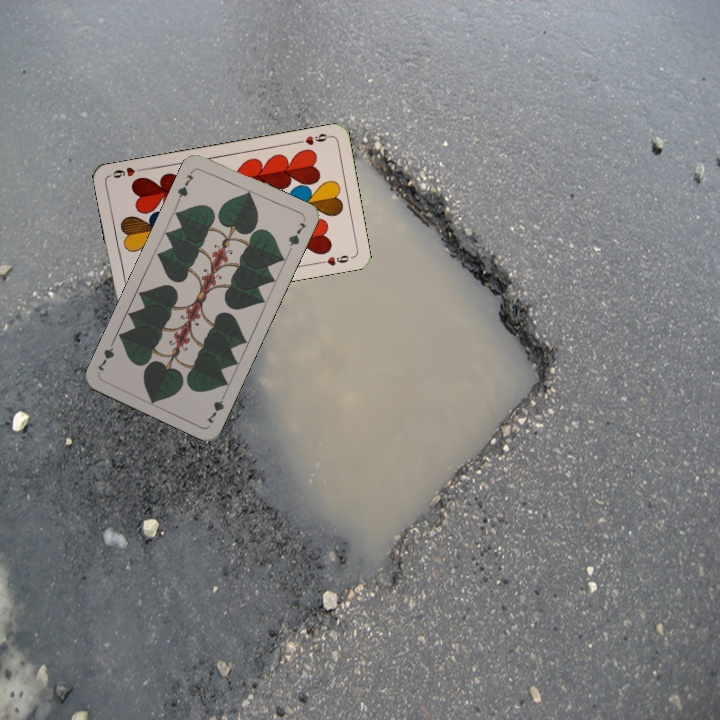G7: (203, 388, 229, 426), (173, 166, 197, 204)
H9: (293, 129, 333, 147)
